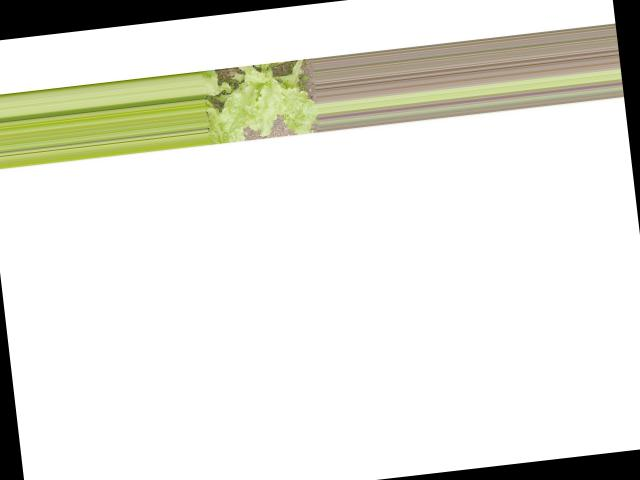lettuce: (200, 53, 318, 141)
